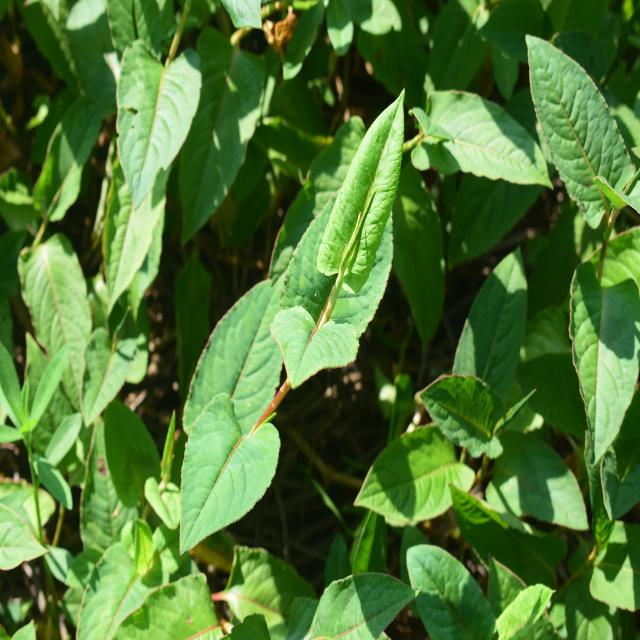Chinese_knotweed: (167, 104, 396, 522), (367, 288, 591, 542), (523, 49, 640, 453)
